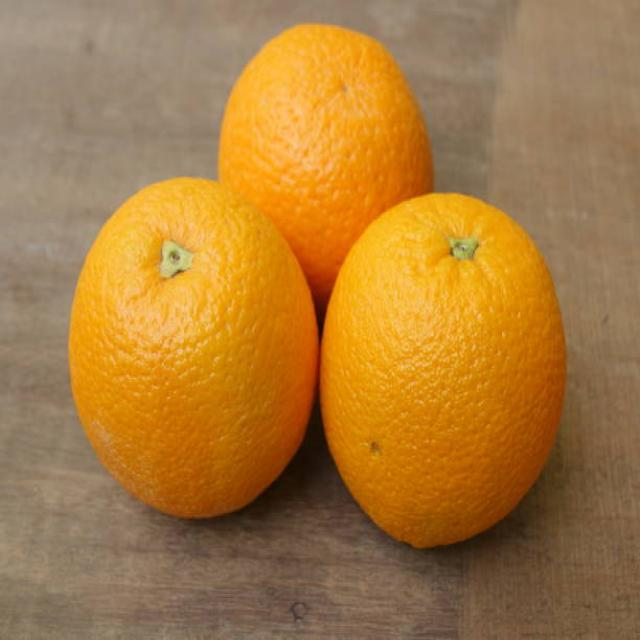Ripe: (319, 187, 571, 549), (69, 171, 319, 526), (214, 21, 436, 192)
